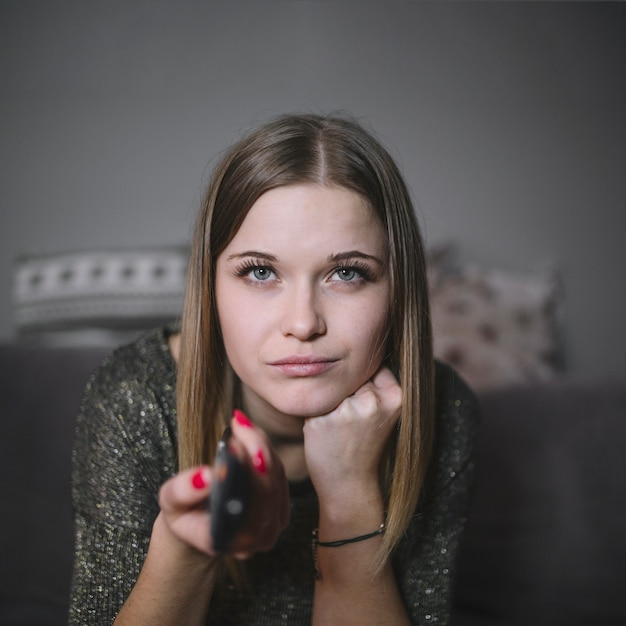teen: (193, 107, 412, 433)
